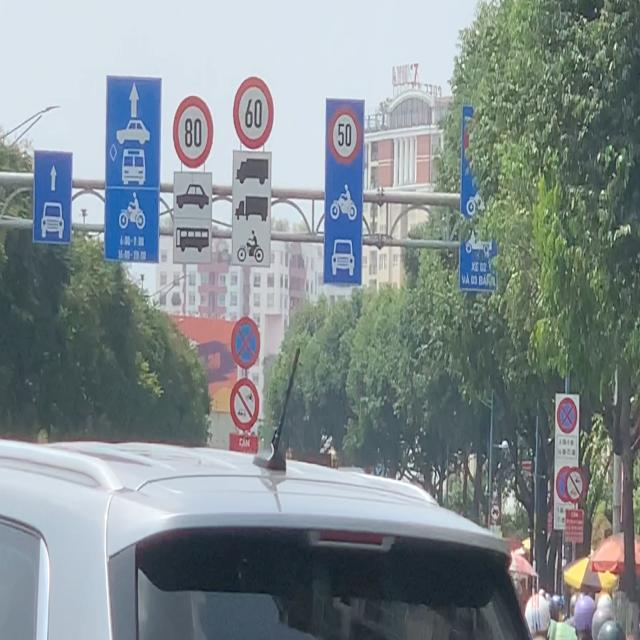Cam con lai: (229, 376, 260, 432)
Cam dung va do: (229, 314, 262, 370), (556, 394, 579, 434)
Toc do toi da: (170, 89, 218, 170), (231, 69, 275, 146), (323, 100, 359, 171)
